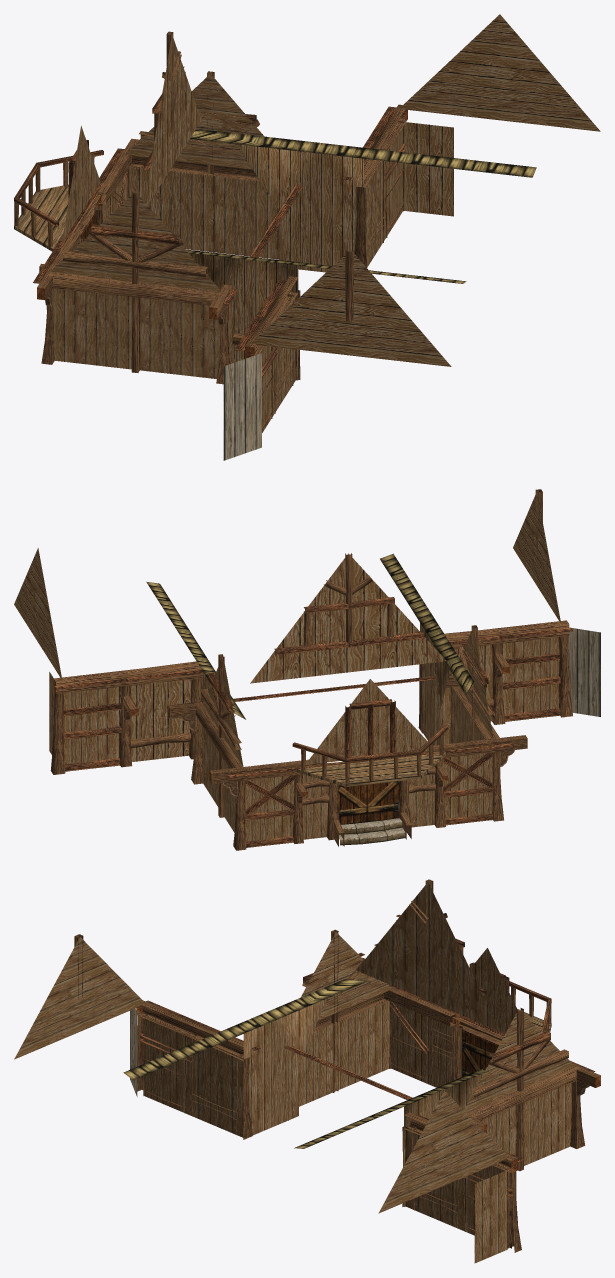
File: LAKETOWN_EXTERIOR_PS_LT_TOWNHALL978__GX.fbx
3 renders of one model, top to bottom at view 1: azimuth 30°, elevation 25°; view 2: azimuth 150°, elevation 25°; view 3: azimuth 270°, elevation 25°, orthographic. The views are drawn at different scales.
Visible parts, largest first — view 1: LAKETOWN_EXTERIOR_PS_LT_TOWNHALL978__GX; view 2: LAKETOWN_EXTERIOR_PS_LT_TOWNHALL978__GX; view 3: LAKETOWN_EXTERIOR_PS_LT_TOWNHALL978__GX.
Part boxes in pixels (box(x1,y1,x2,y2)): LAKETOWN_EXTERIOR_PS_LT_TOWNHALL978__GX: box(14, 14, 600, 460); LAKETOWN_EXTERIOR_PS_LT_TOWNHALL978__GX: box(14, 489, 600, 850); LAKETOWN_EXTERIOR_PS_LT_TOWNHALL978__GX: box(14, 879, 600, 1263).
Size of the model in its own units: 229026 by 107141 by 229026.
Materials: 11 (11 with a texture image).
